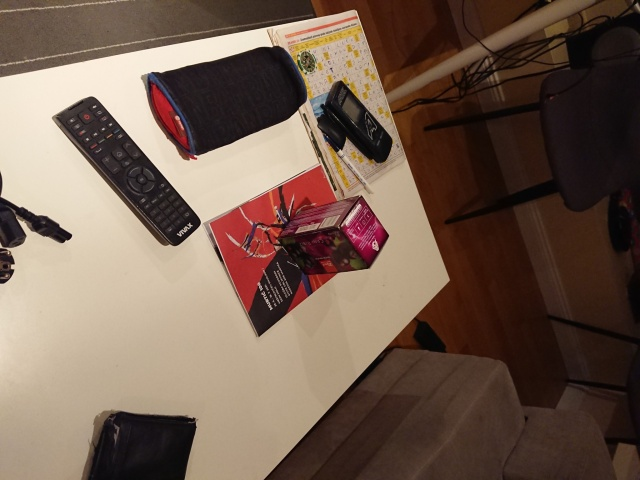Franck Black Currant Tea 60g: (274, 192, 391, 277)
